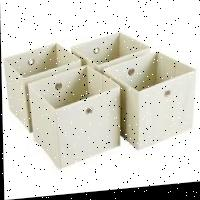cube: (28, 63, 121, 173)
